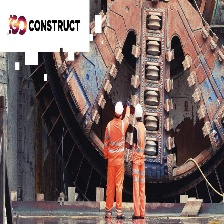helmet: (113, 100, 124, 119), (134, 103, 144, 123)
person: (105, 98, 129, 224), (130, 103, 148, 219)
vest: (106, 117, 127, 164), (131, 121, 146, 169)
